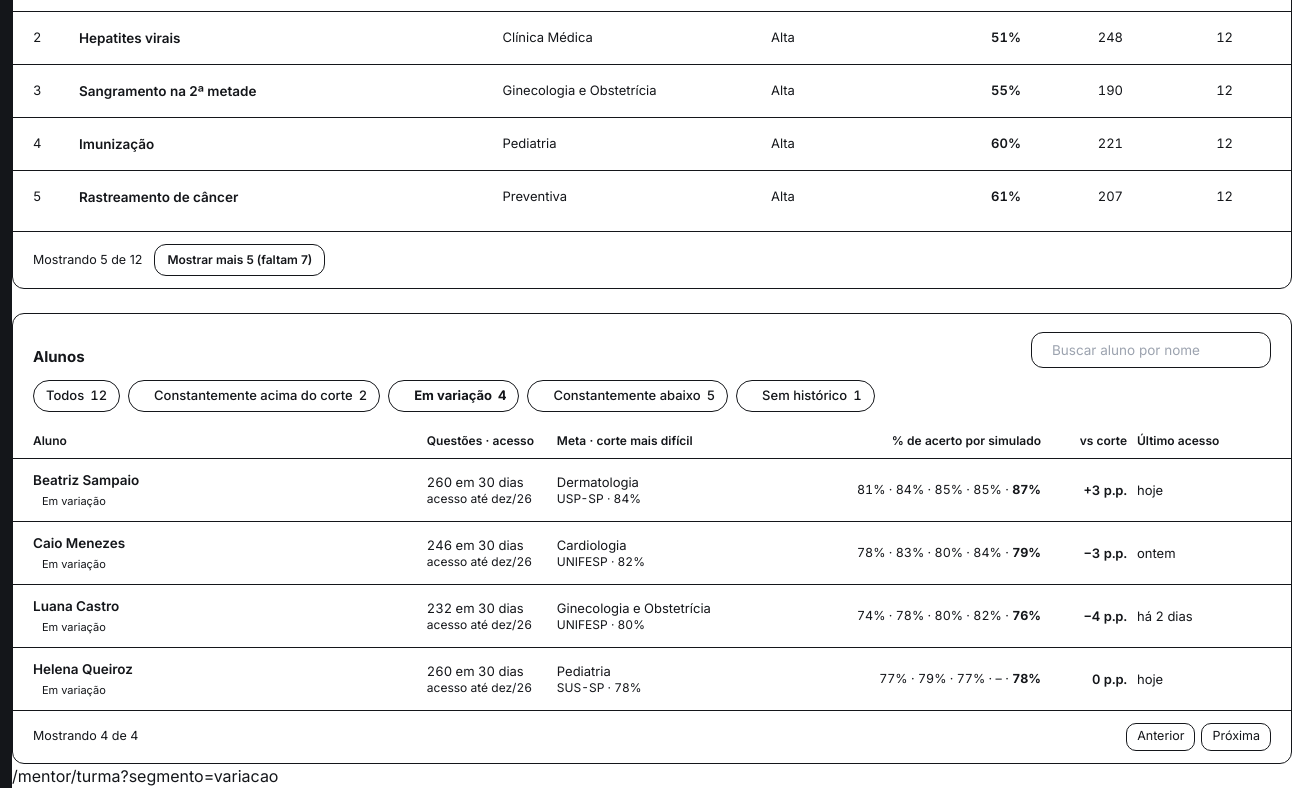
Minha Turma · com simulados › clique no aluno abre o drawer por ?aluno= e marca a linha, preservando os filtros
The image size is (1292, 788).
(page scrolled)
Click the button "Beatriz Sampaio": click(86, 480) [33, 471, 139, 490]
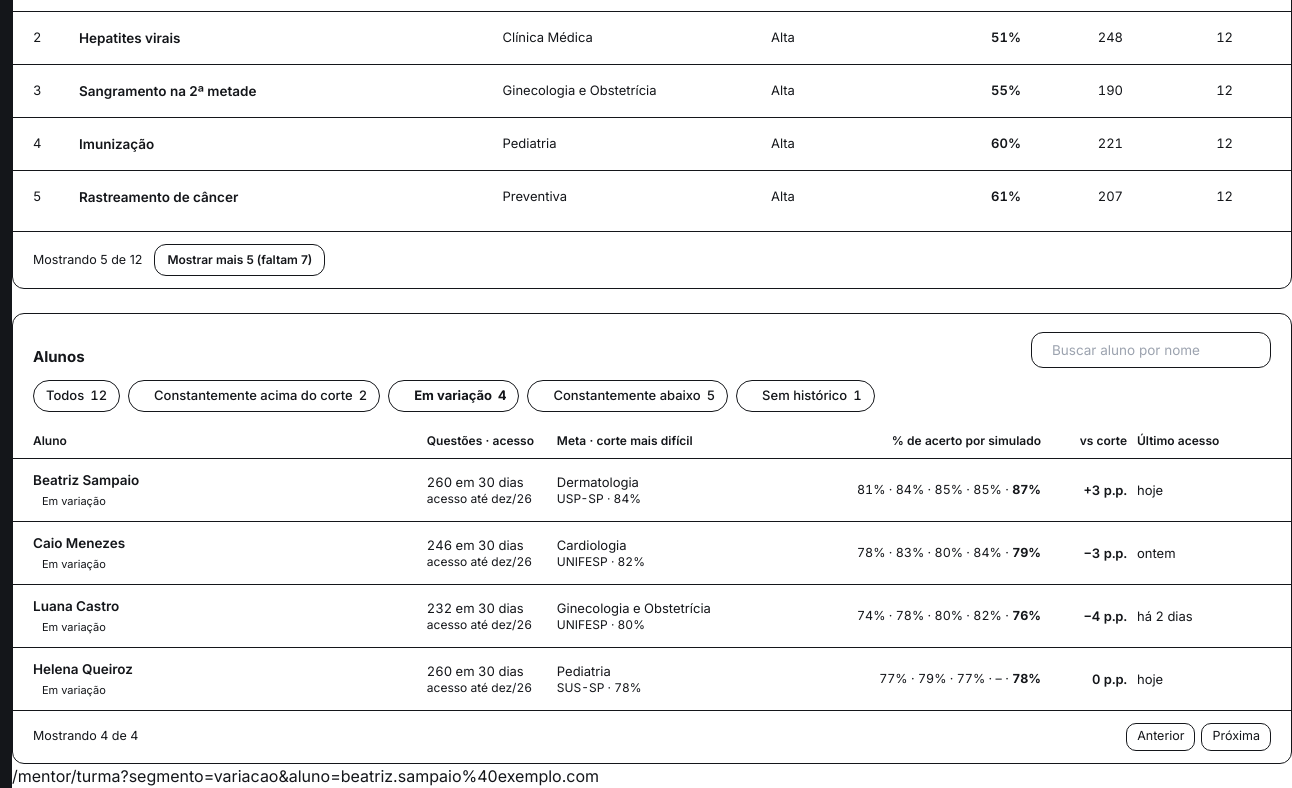
Check: the text with test id "url" reads "/mentor/turma?segmento=variacao&aluno=beatriz.sampaio%40exemplo.com", box [12, 766, 599, 786]
